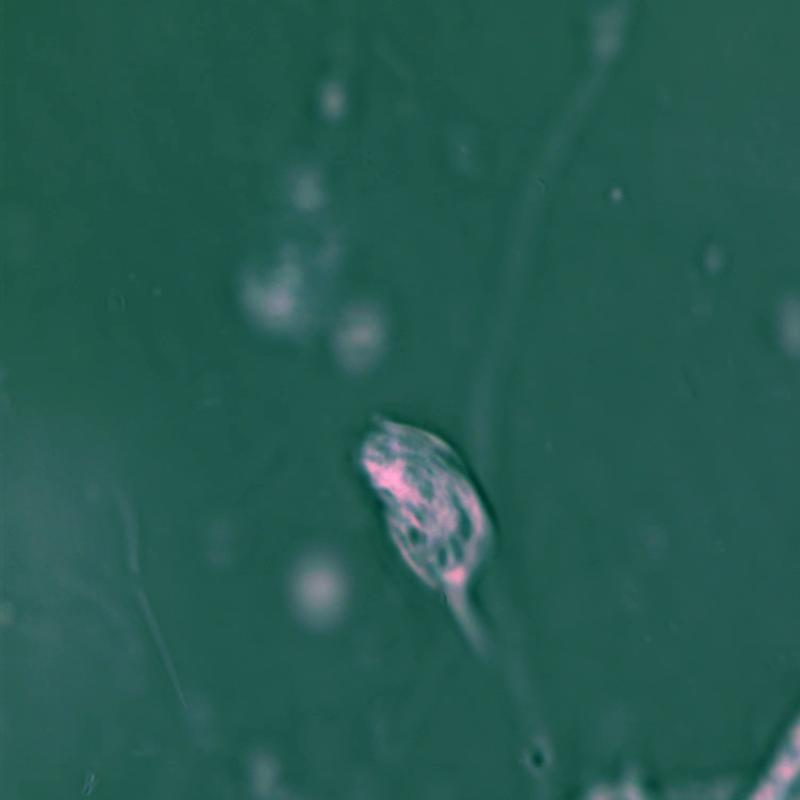depth:60: (335, 387, 549, 740)
